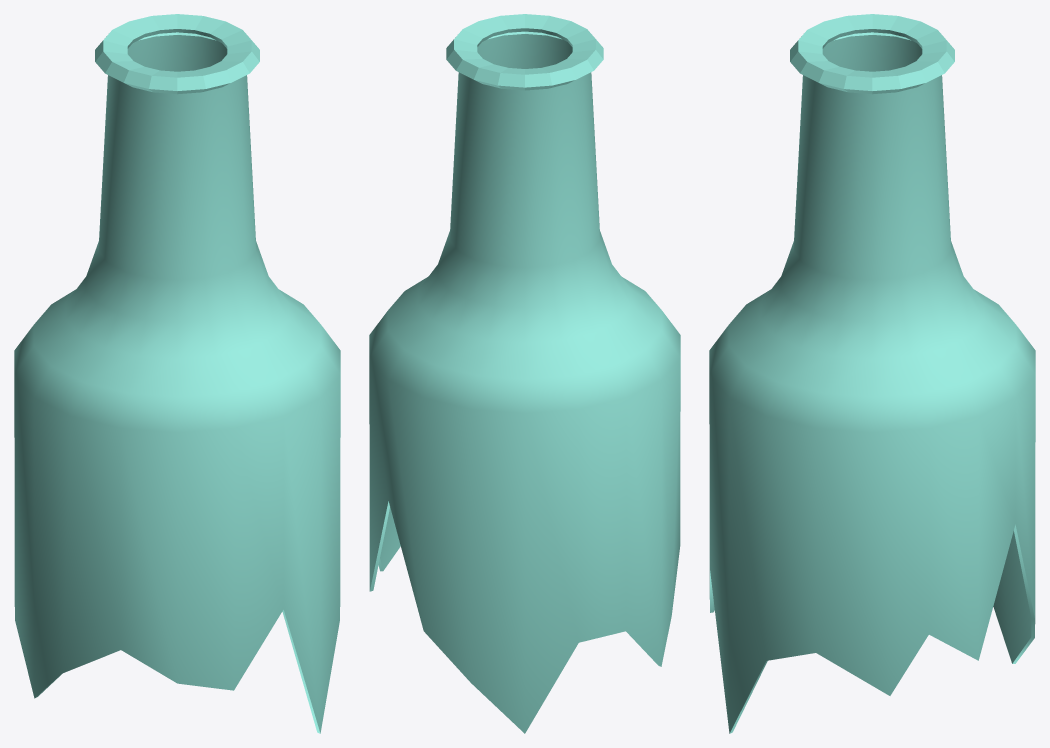
The model's file is Broken Bottle.FBX.
3 renders of one model, left to right at view 1: azimuth 30°, elevation 25°; view 2: azimuth 150°, elevation 25°; view 3: azimuth 270°, elevation 25°, orthographic. The views are drawn at different scales.
Parts seen in each view (by area): view 1: Cylinder001; view 2: Cylinder001; view 3: Cylinder001.
Part boxes in pixels (x1=…): Cylinder001: x1=14, y1=14, x2=340, y2=733; Cylinder001: x1=369, y1=14, x2=680, y2=733; Cylinder001: x1=709, y1=14, x2=1035, y2=733.
Bounding box in the file's own units: 26.53 × 57.72 × 26.13.
